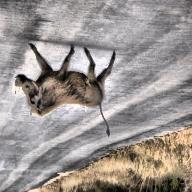boar: (14, 43, 116, 137)
